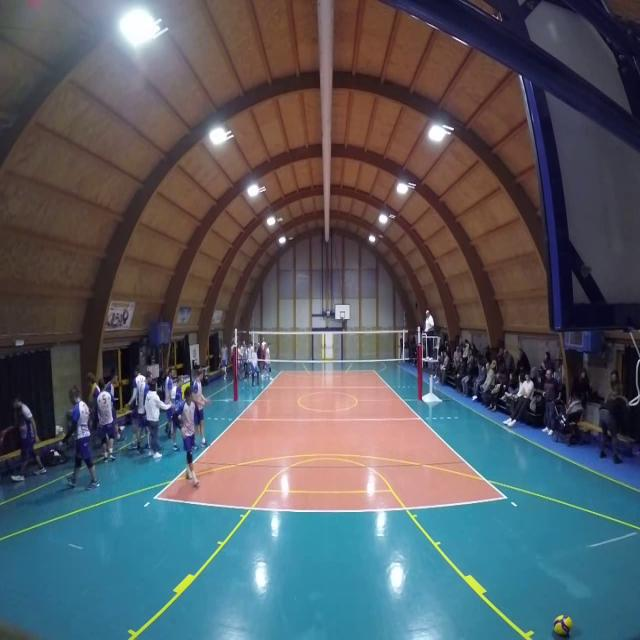Volleyball: (551, 613, 574, 638)
